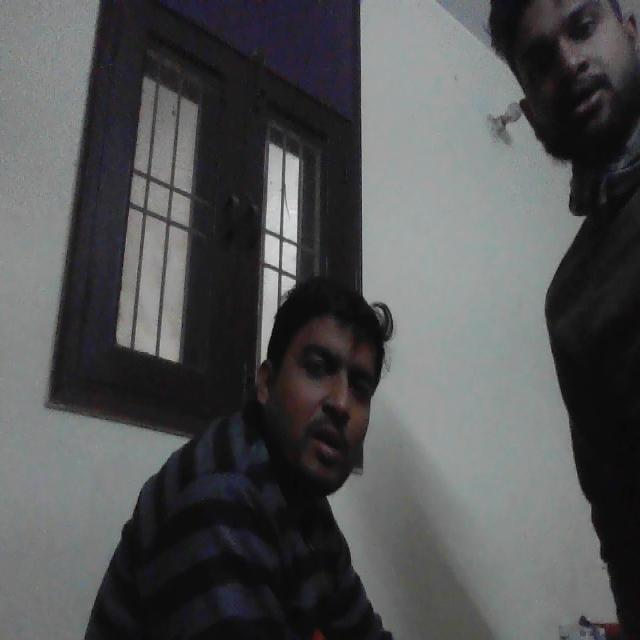real: (255, 262, 376, 490), (519, 0, 635, 219)
